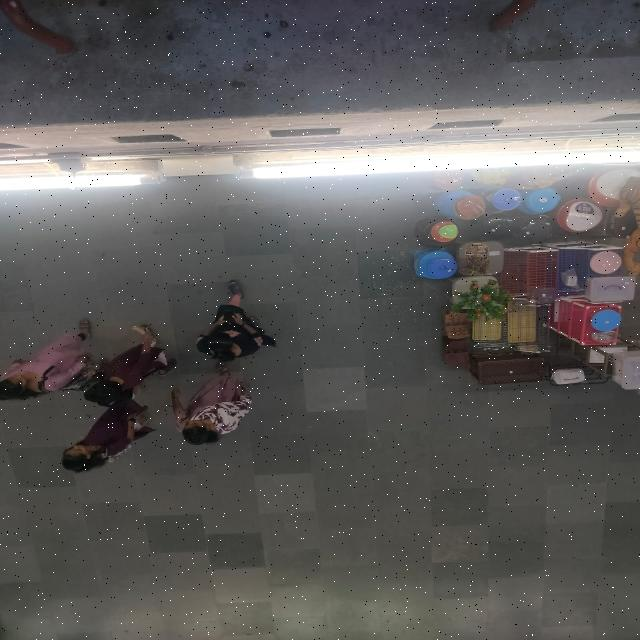humans: (186, 266, 280, 367), (76, 322, 176, 410), (0, 314, 93, 408), (166, 366, 258, 447), (58, 404, 154, 477)
